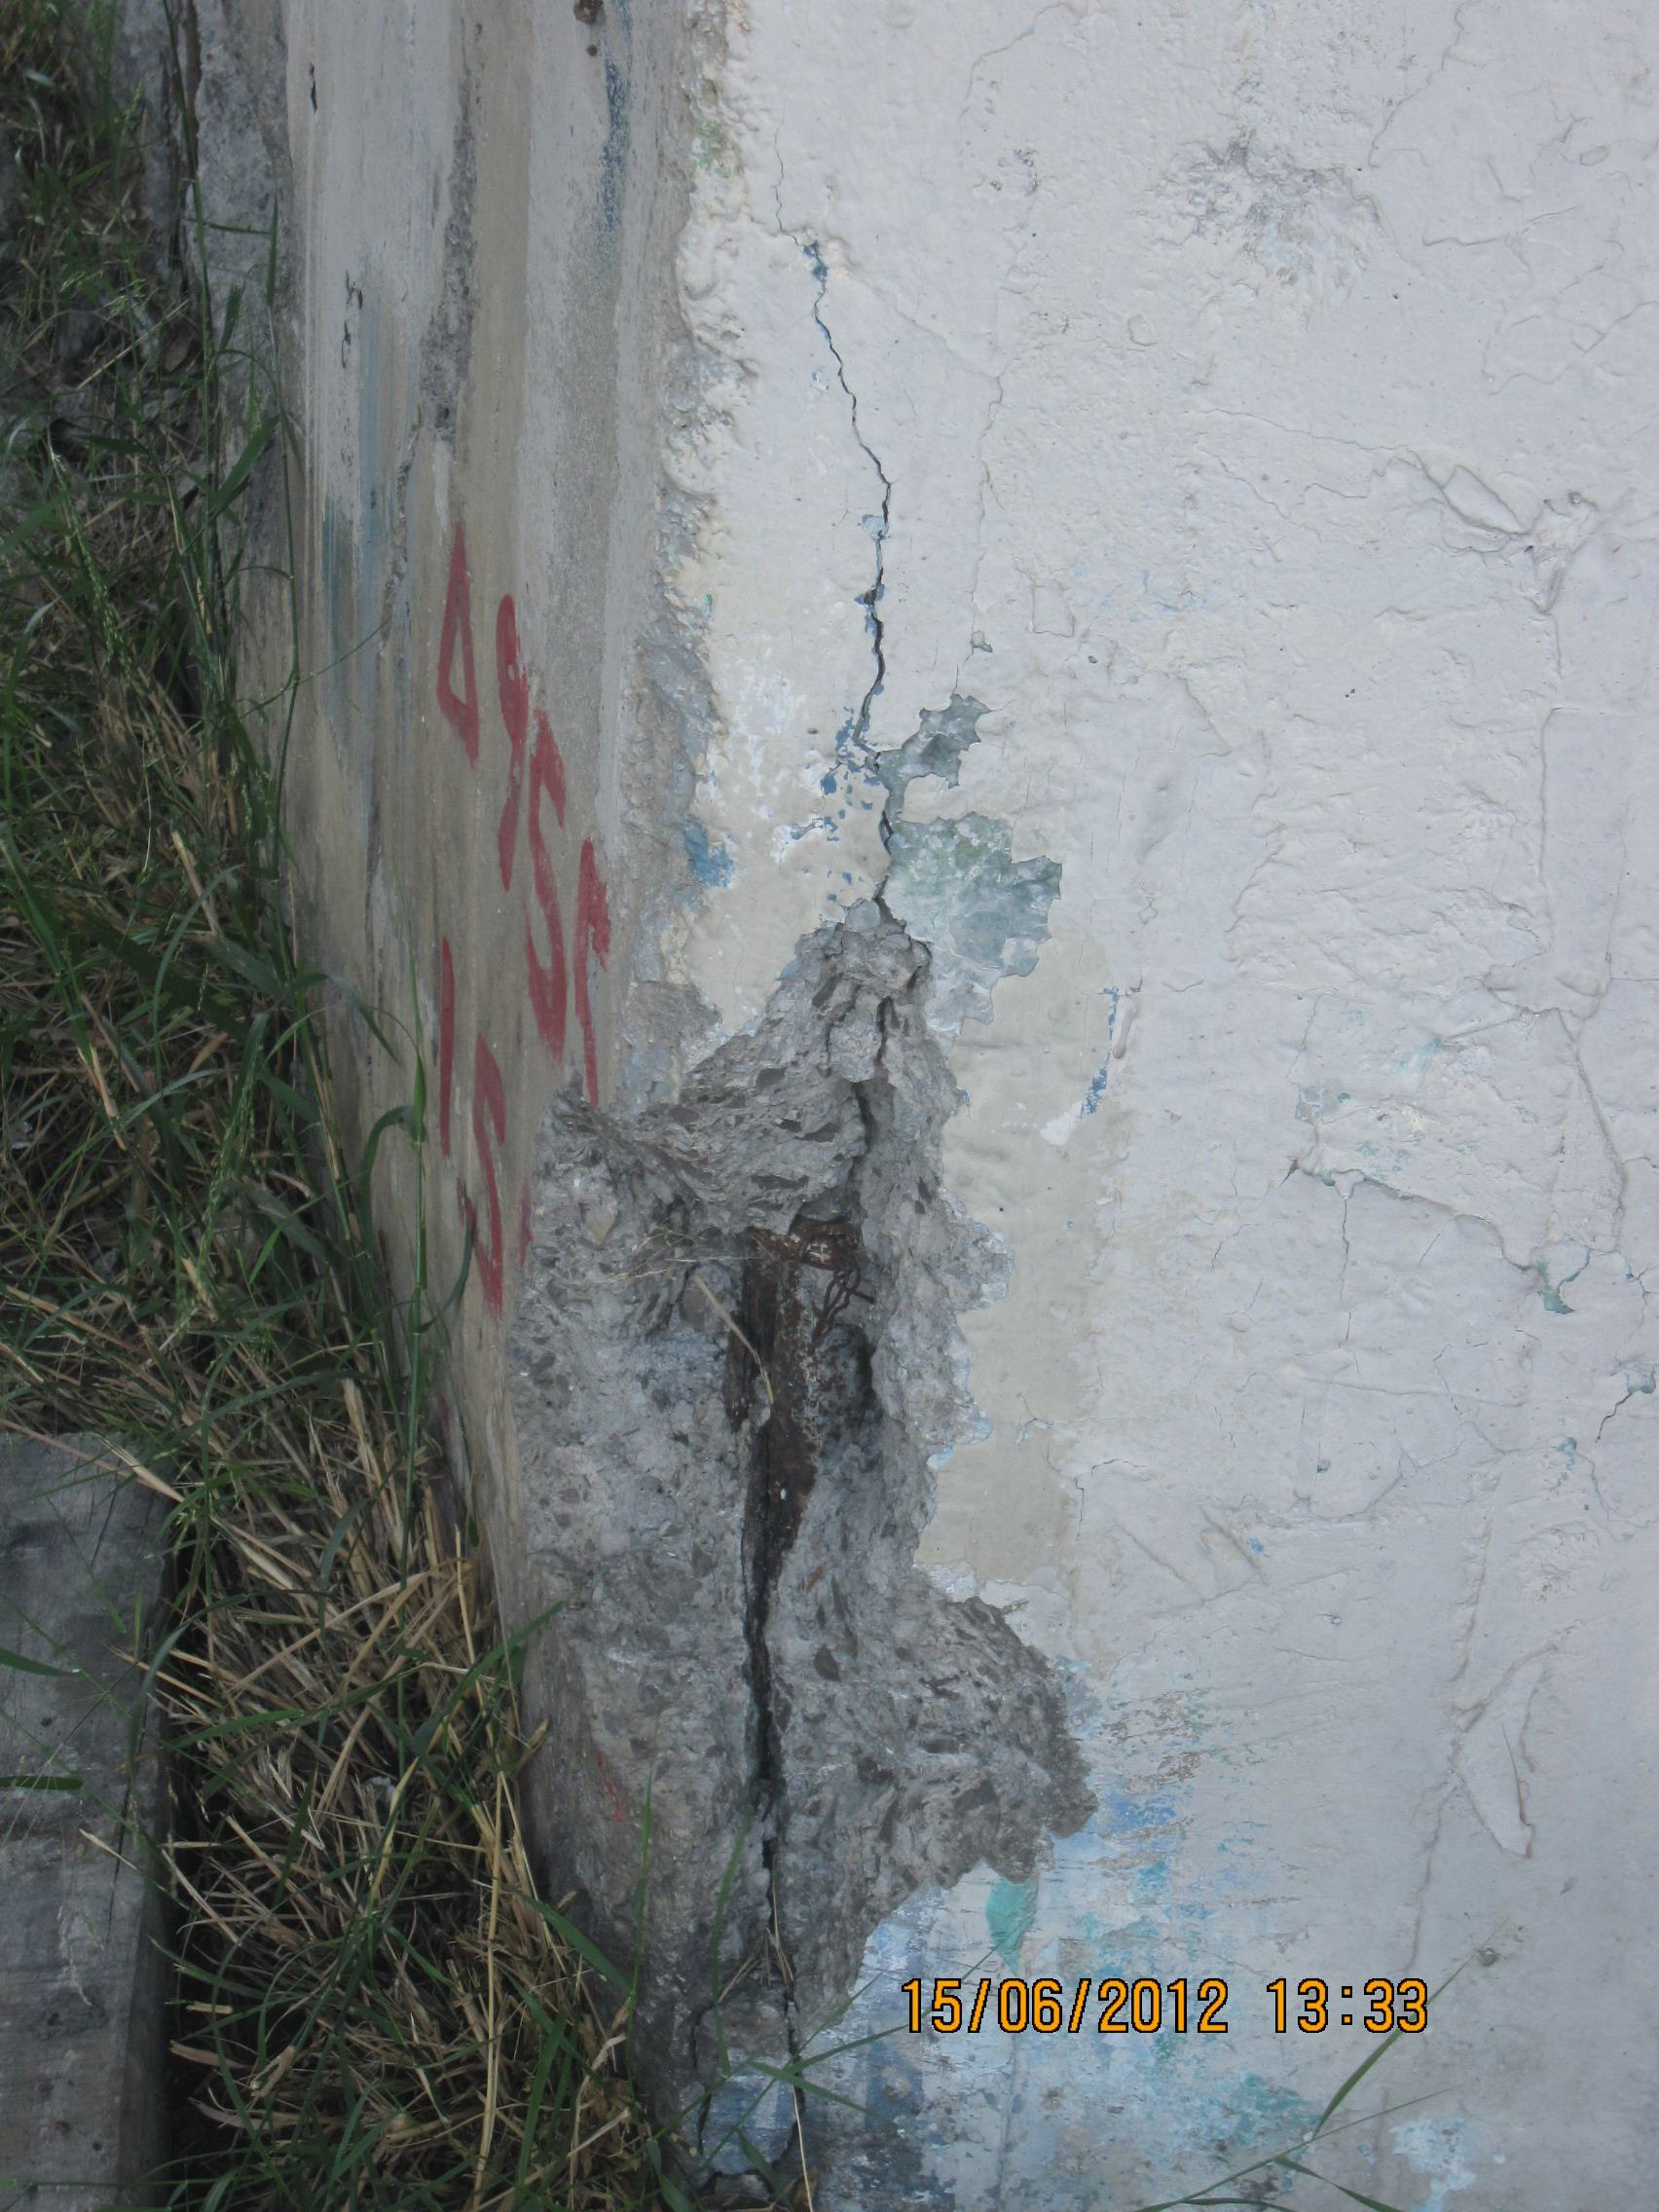Crack: (772, 117, 899, 895)
Exposed reinforcement: (760, 1211, 864, 1590)
Spalling: (511, 897, 1100, 2057)
